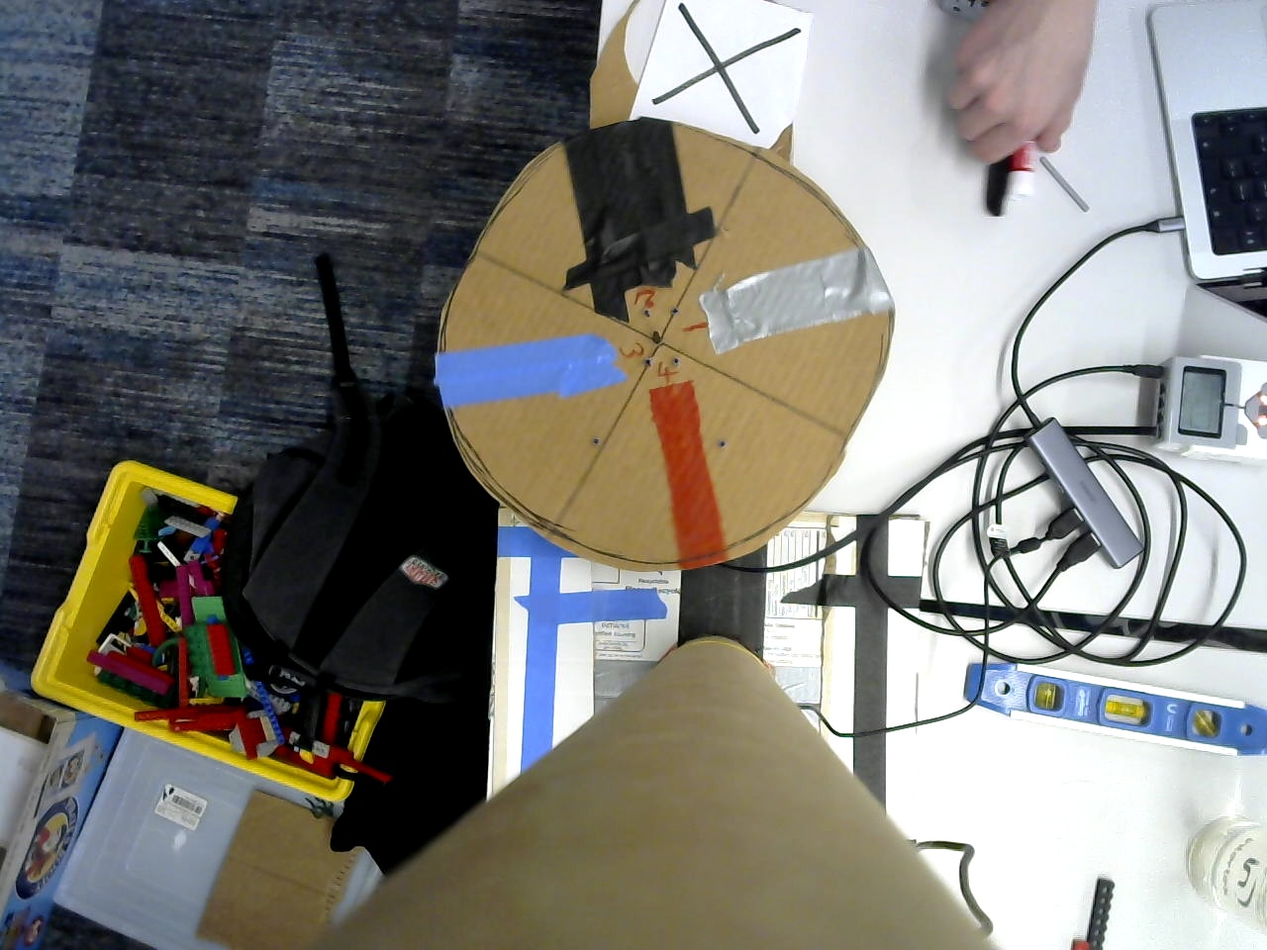black: (1198, 110, 1267, 248)
blue: (434, 335, 626, 412)
red: (648, 380, 731, 566)
silver: (698, 251, 884, 353)
x: (656, 2, 793, 136)
